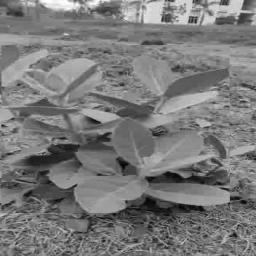CALOTROPIS: (2, 45, 230, 214)
